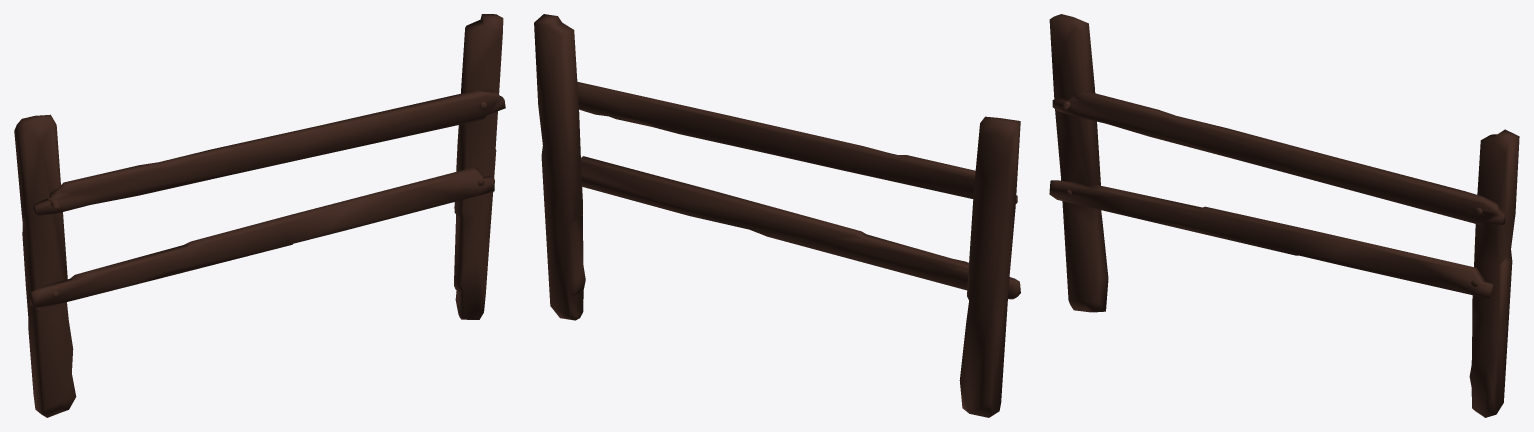
File: SM_Fence_04.fbx
3 views of the same model, side by side, from view 1: azimuth 30°, elevation 25°; view 2: azimuth 150°, elevation 25°; view 3: azimuth 330°, elevation 25° (orthographic). The views are drawn at different scales.
Parts seen in each view (by area): view 1: SM_Fence_04_LOD0; view 2: SM_Fence_04_LOD0; view 3: SM_Fence_04_LOD0.
Part boxes in pixels (<box>): SM_Fence_04_LOD0: <box>14,14,505,417</box>; SM_Fence_04_LOD0: <box>534,14,1020,417</box>; SM_Fence_04_LOD0: <box>1049,14,1519,417</box>.
Size of what is drawn, in the model's own units: 238 by 144 by 17.17.
